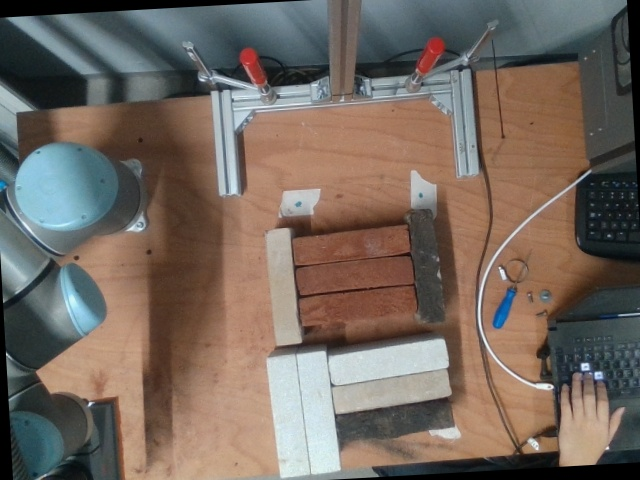brick-side: (326, 339, 449, 385), (331, 368, 451, 413), (336, 398, 452, 443), (267, 354, 309, 478), (297, 351, 339, 475), (293, 225, 409, 267), (296, 256, 412, 298), (300, 285, 416, 327), (406, 209, 443, 325), (264, 229, 301, 344)
